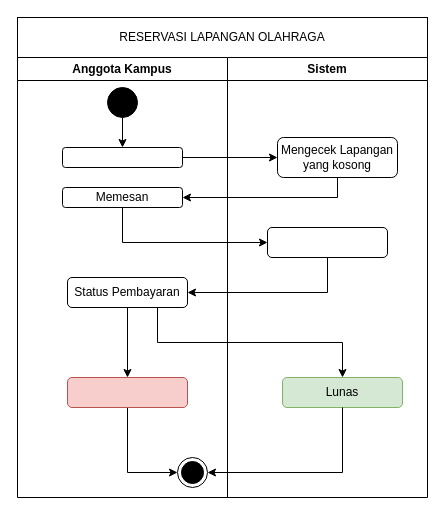
The diagram is 445 pixels wide and 515 high, and some of its shapes have lost their labels. The centre of each missing label's shape, as x and y in pixels:
"Dibatalkan" belongs at [127,392].
"Melihat Slot kosong" belongs at [122,157].
"Menunggu Pembayaran" belongs at [327,242].
